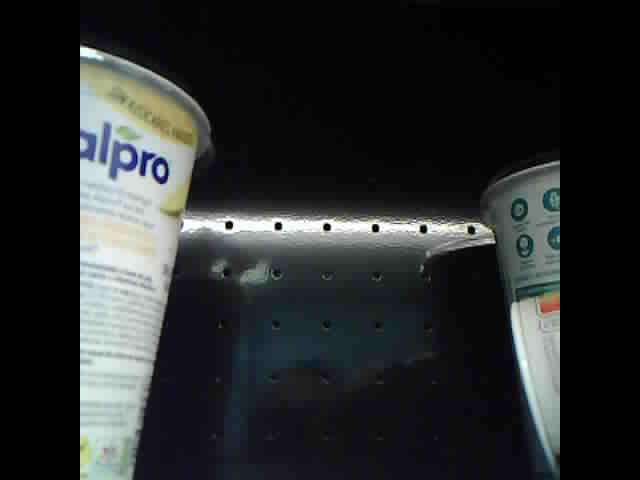alpro: (79, 38, 213, 480), (479, 153, 559, 479)
